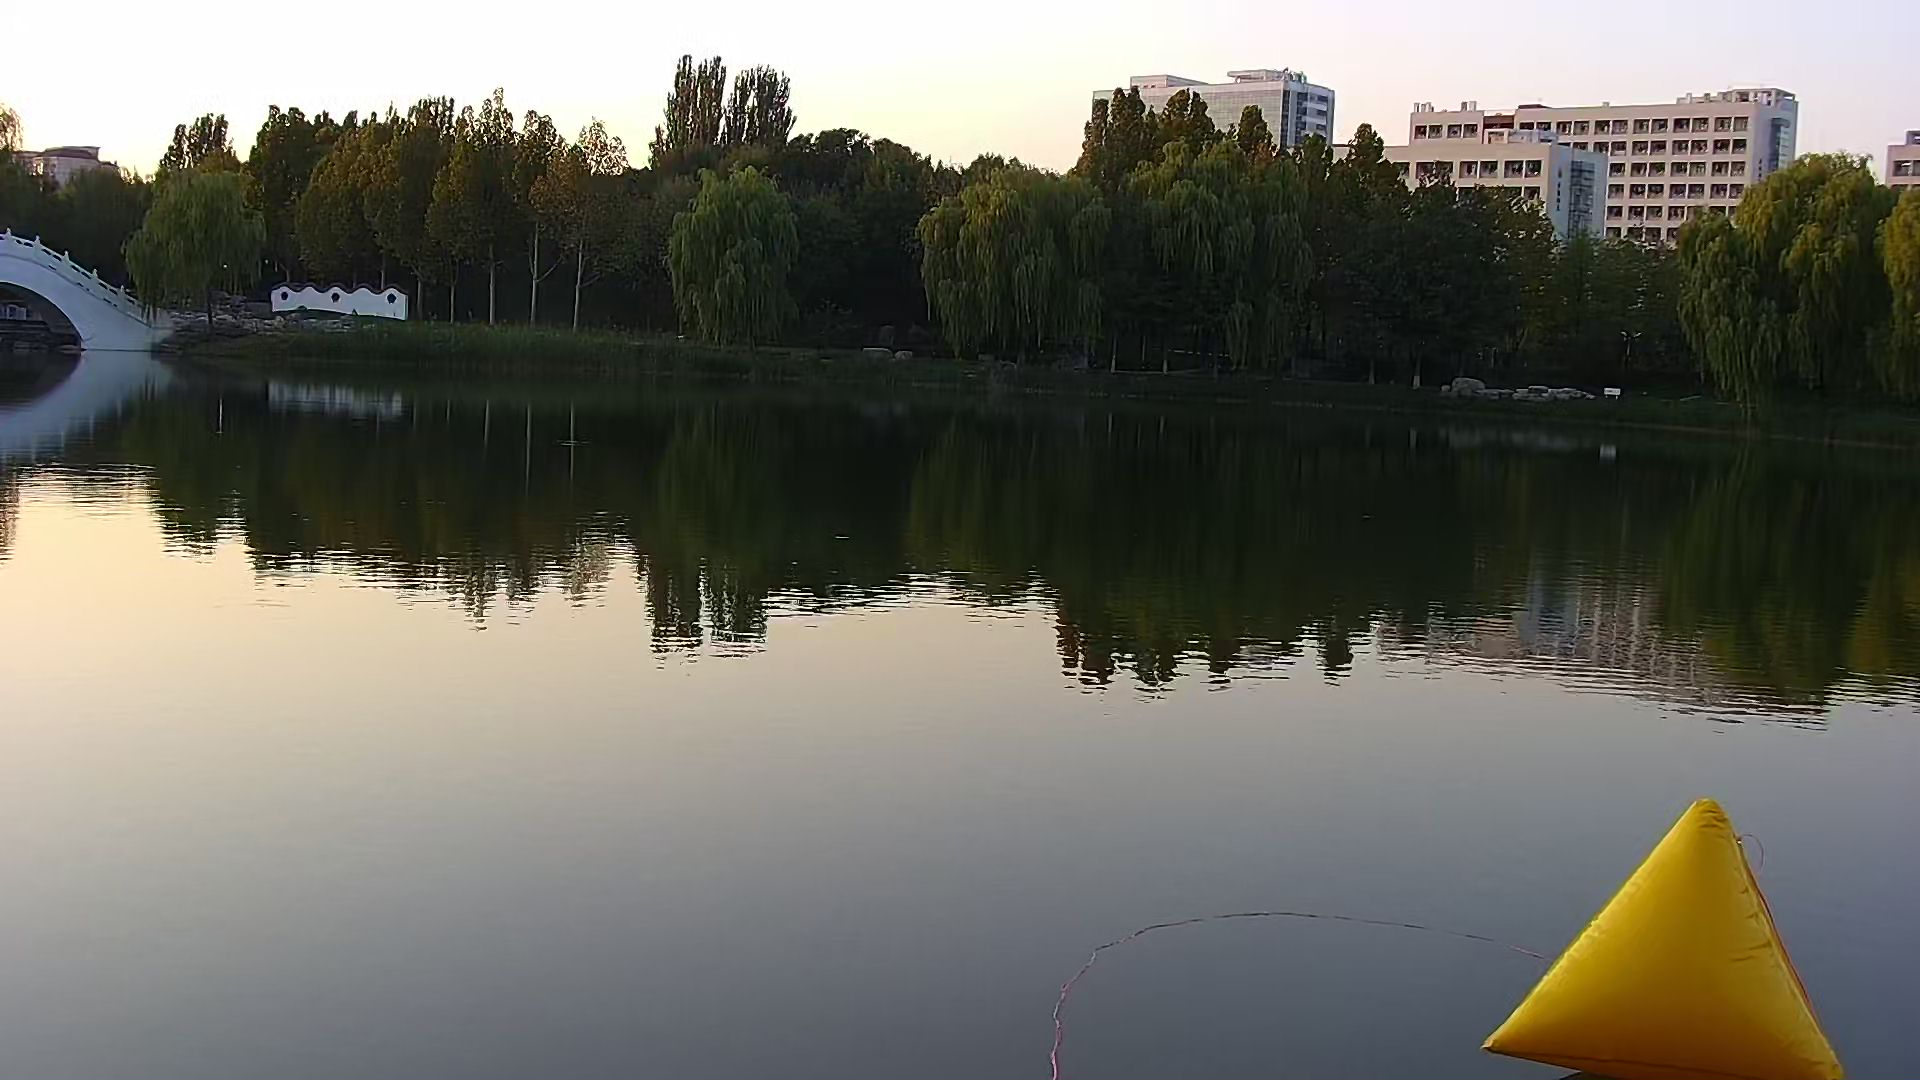rubbish: (1480, 800, 1880, 1080)
